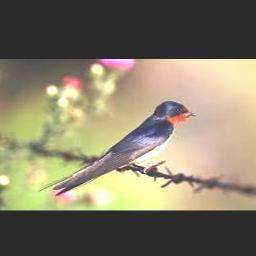Swallow: (38, 102, 196, 196)
